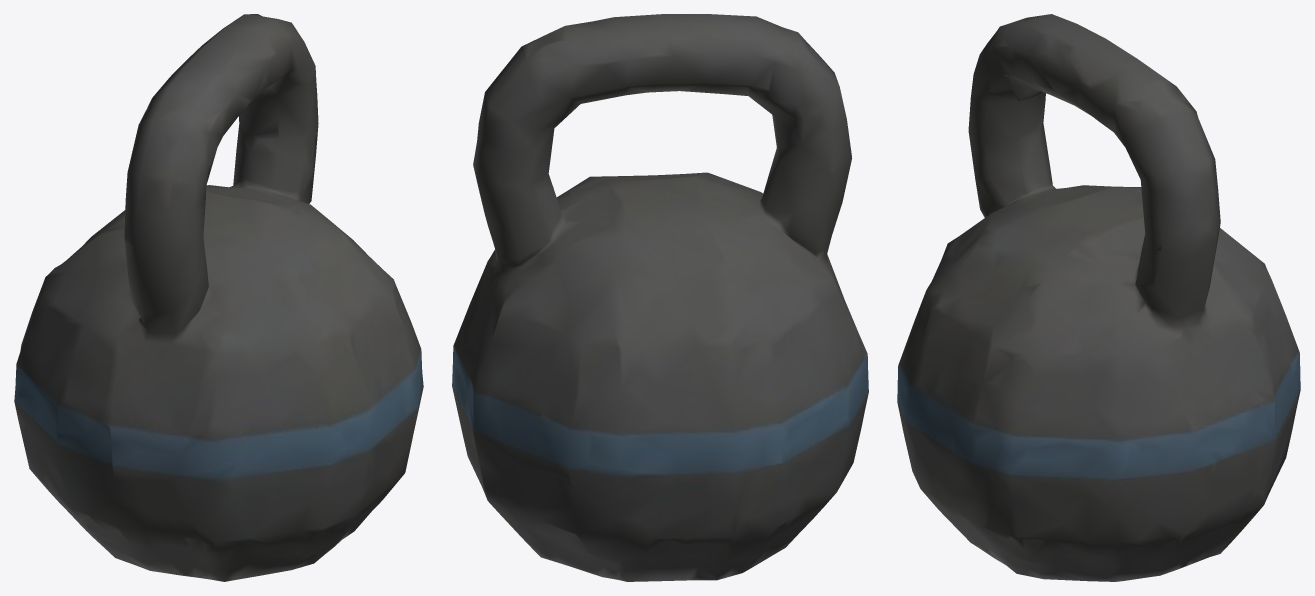
Rendered from kettlebell.glb.
3 views of the same model, side by side, from view 1: azimuth 30°, elevation 25°; view 2: azimuth 150°, elevation 25°; view 3: azimuth 270°, elevation 25° (orthographic). The views are drawn at different scales.
Visible parts, largest first — view 1: tripo_node_895ec8d1-4062-4729-891f-85347d0d02e2; view 2: tripo_node_895ec8d1-4062-4729-891f-85347d0d02e2; view 3: tripo_node_895ec8d1-4062-4729-891f-85347d0d02e2.
Boxes of the visible parts, x1,y1,x2,y2 form: tripo_node_895ec8d1-4062-4729-891f-85347d0d02e2: [14, 14, 423, 581]; tripo_node_895ec8d1-4062-4729-891f-85347d0d02e2: [452, 14, 868, 581]; tripo_node_895ec8d1-4062-4729-891f-85347d0d02e2: [897, 14, 1300, 581].
Size of the model in its own units: 0.7456 by 1 by 0.7548.
1 material, 1 textured.
